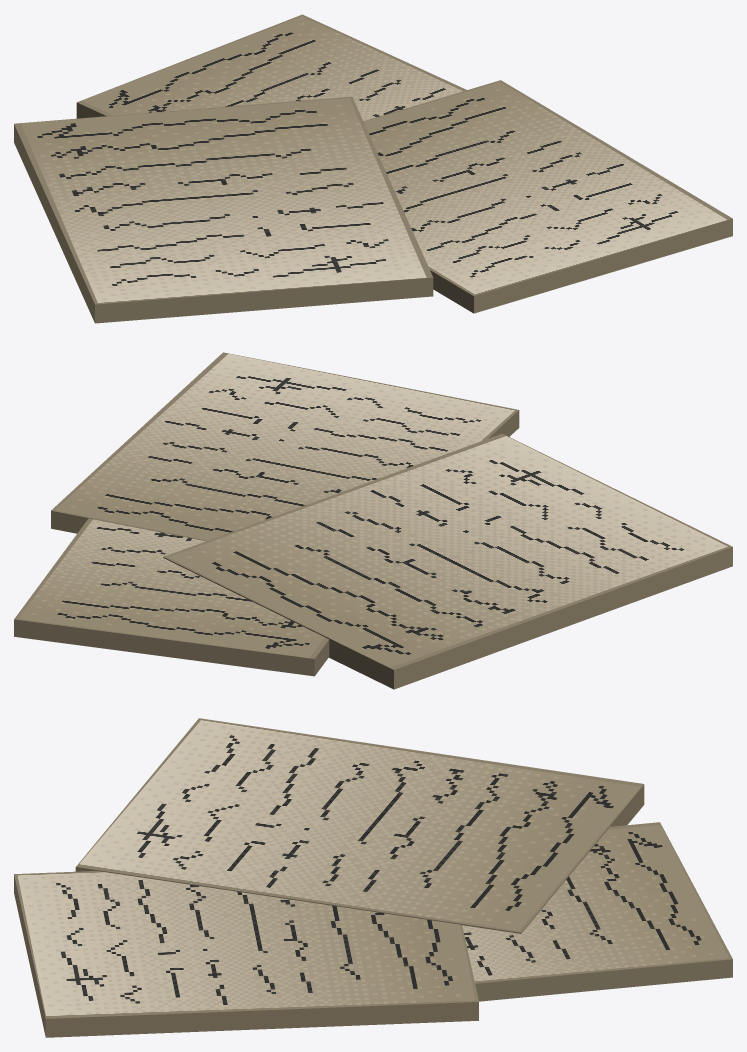
The model's file is Paperd.glb.
3 renders of one model, top to bottom at view 1: azimuth 30°, elevation 25°; view 2: azimuth 150°, elevation 25°; view 3: azimuth 270°, elevation 25°, orthographic. The views are drawn at different scales.
Parts seen in each view (by area): view 1: Cube.002; view 2: Cube.002; view 3: Cube.002.
Boxes of the visible parts, x1=… form: Cube.002: x1=14, y1=14, x2=732, y2=323; Cube.002: x1=14, y1=352, x2=732, y2=689; Cube.002: x1=14, y1=718, x2=732, y2=1037.
Size of the model in its own units: 1.42 by 0.0453 by 1.44.
Materials: 3 (3 with a texture image).
